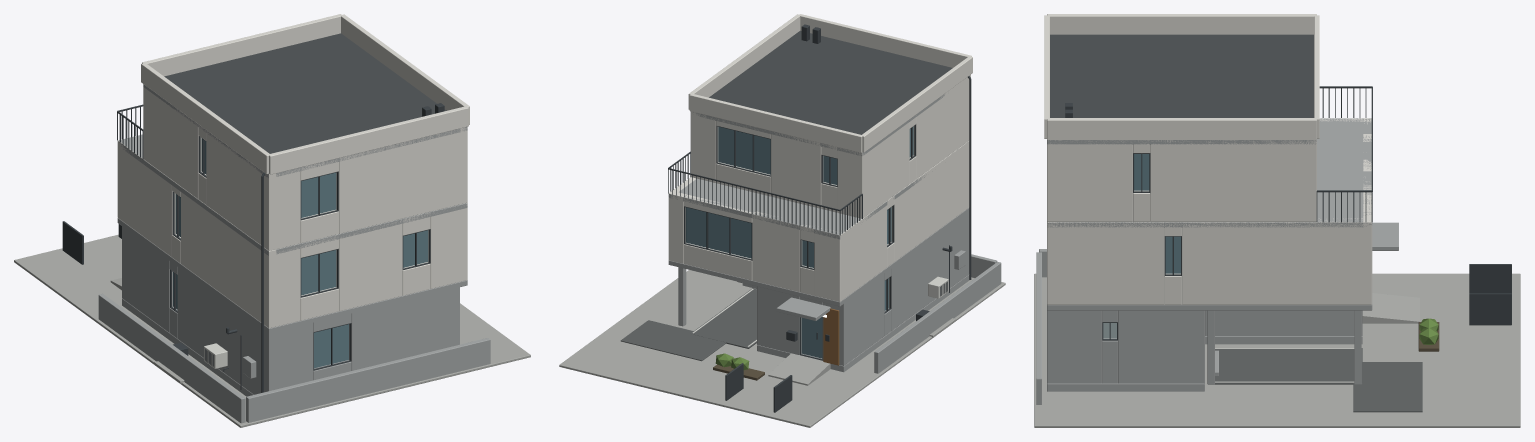
File: HOUSE_01_URBAN_MODERN.fbx
The picture shows the model from 3 angles, left to right: view 1: azimuth 30°, elevation 25°; view 2: azimuth 150°, elevation 25°; view 3: azimuth 270°, elevation 25°; orthographic projection. The views are drawn at different scales.
Visible parts, largest first — view 1: UNITY_ASSET_HOUSE_01_URBAN_MODERN; view 2: UNITY_ASSET_HOUSE_01_URBAN_MODERN; view 3: UNITY_ASSET_HOUSE_01_URBAN_MODERN.
Boxes of the visible parts, left/top/right/bottom form: UNITY_ASSET_HOUSE_01_URBAN_MODERN: left=14, top=14, right=530, bottom=427; UNITY_ASSET_HOUSE_01_URBAN_MODERN: left=559, top=14, right=1005, bottom=427; UNITY_ASSET_HOUSE_01_URBAN_MODERN: left=1034, top=14, right=1520, bottom=427.
Bounding box in the file's own units: 11.45 × 9.76 × 15.4.
